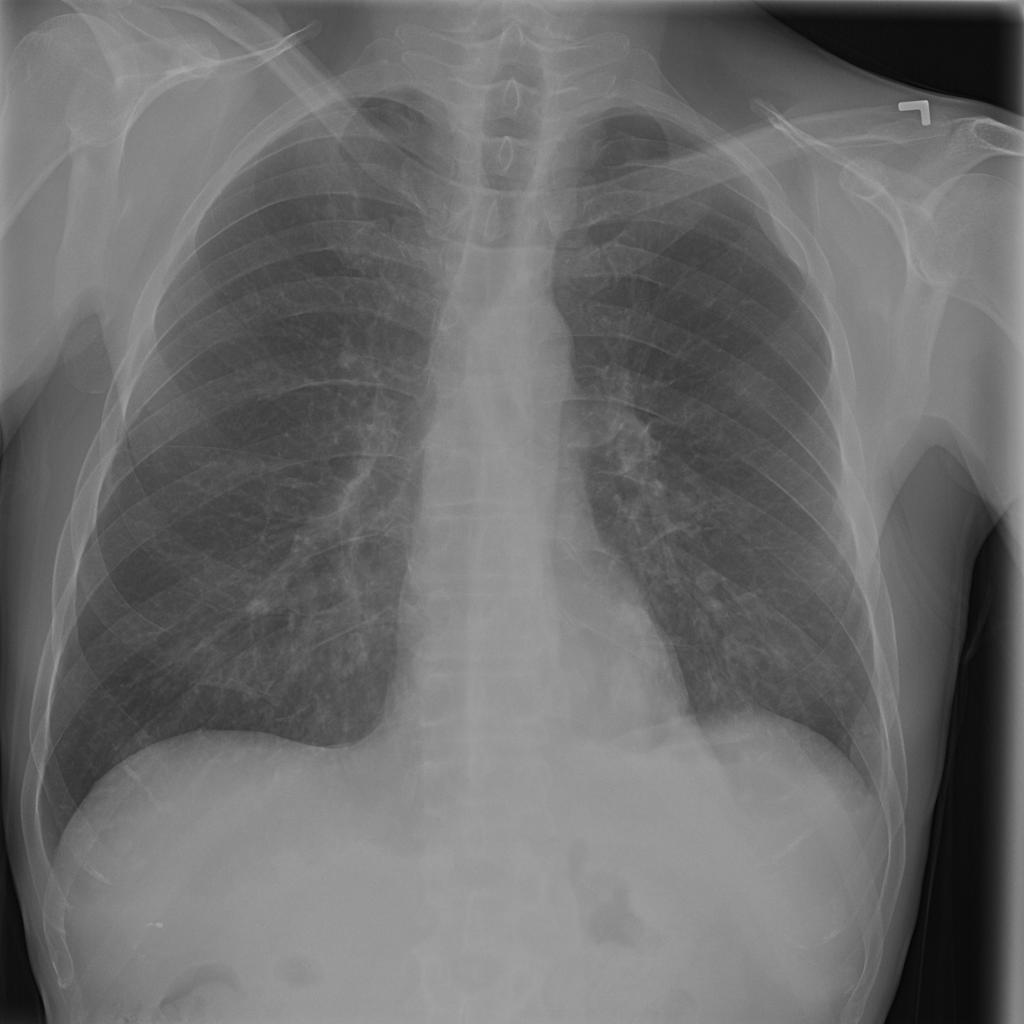nodule: (595, 647, 663, 727), (232, 584, 286, 630), (682, 560, 732, 608), (314, 191, 351, 228), (234, 276, 271, 313)
